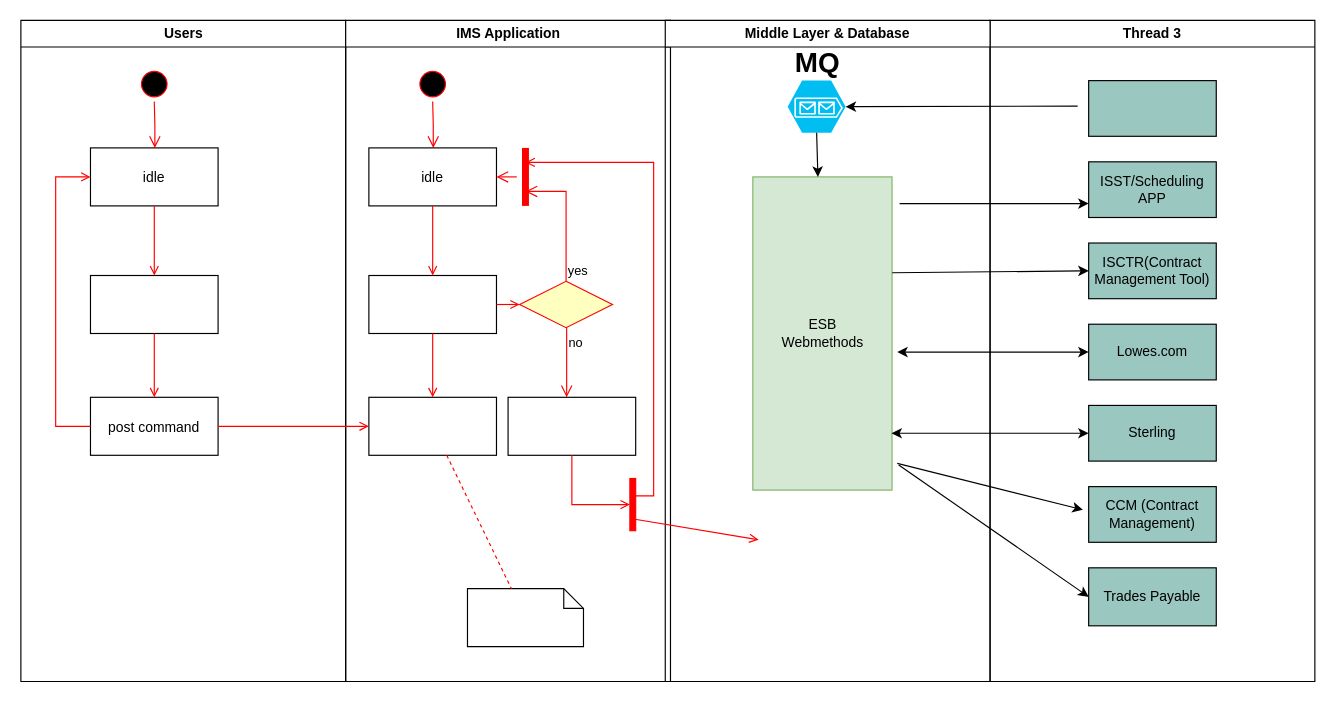
The diagram is 1335 pixels wide and 702 high, and some of its shapes have lost their labels. Here are the shapes that lost their labels. From the top down, the centre of each, then its label:
the point at 1152,107: Genesis
the point at 153,304: user action
the point at 432,304: check for new commands
the point at 565,304: queue empty
the point at 432,425: command queue
the point at 571,425: dispatch command worker thread
the point at 524,617: critical section
